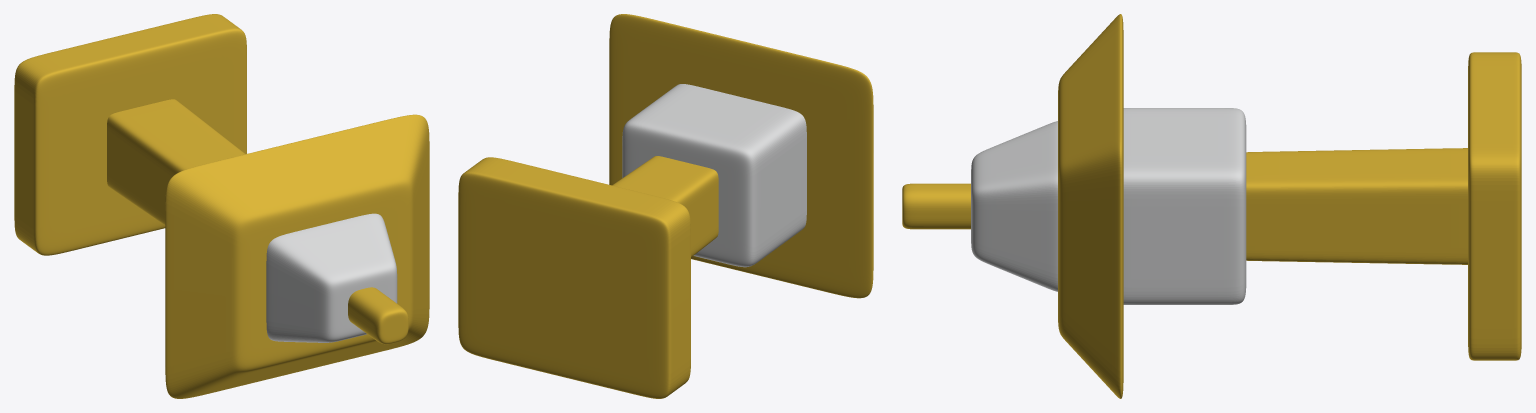
Rendered from japanese_stone_lantern_sq.glb.
The picture shows the model from 3 angles, left to right: view 1: azimuth 30°, elevation 25°; view 2: azimuth 150°, elevation 25°; view 3: azimuth 270°, elevation 25°; orthographic projection. The views are drawn at different scales.
Parts seen in each view (by area): view 1: superquadric_3, superquadric_0, superquadric_4, superquadric_1, superquadric_5; view 2: superquadric_0, superquadric_3, superquadric_2, superquadric_1; view 3: superquadric_1, superquadric_2, superquadric_3, superquadric_0, superquadric_4, superquadric_5.
Boxes of the visible parts, box(x1,y1,x2,y2) form: superquadric_3: box(165, 114, 429, 398); superquadric_0: box(14, 14, 246, 255); superquadric_4: box(266, 213, 397, 342); superquadric_1: box(107, 99, 245, 225); superquadric_5: box(348, 287, 408, 344); superquadric_0: box(458, 157, 690, 398); superquadric_3: box(609, 14, 873, 298); superquadric_2: box(622, 84, 806, 267); superquadric_1: box(612, 156, 718, 257); superquadric_1: box(1246, 148, 1467, 264); superquadric_2: box(1123, 108, 1246, 304); superquadric_3: box(1058, 14, 1123, 398); superquadric_0: box(1468, 52, 1521, 360); superquadric_4: box(971, 121, 1057, 291); superquadric_5: box(902, 183, 970, 229).
Size of the model in its own units: 0.552 by 0.46 by 1.
